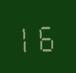one: (19, 21, 37, 53)
six: (38, 20, 56, 52)
